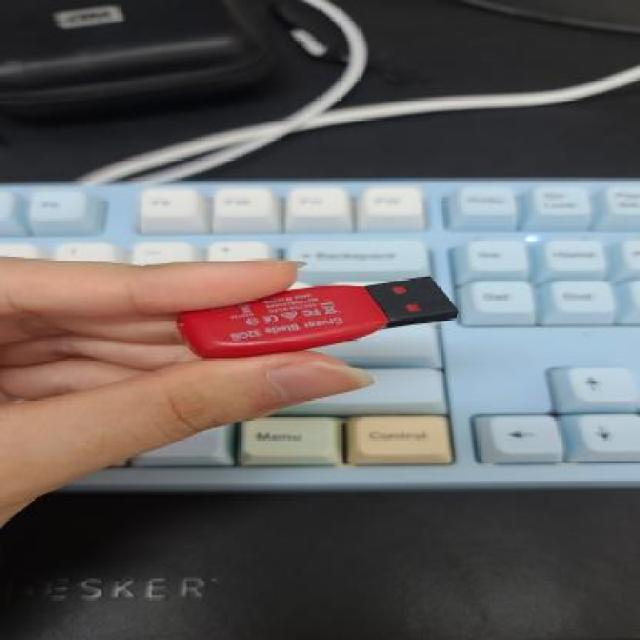Flashdisk: (171, 274, 464, 360)
